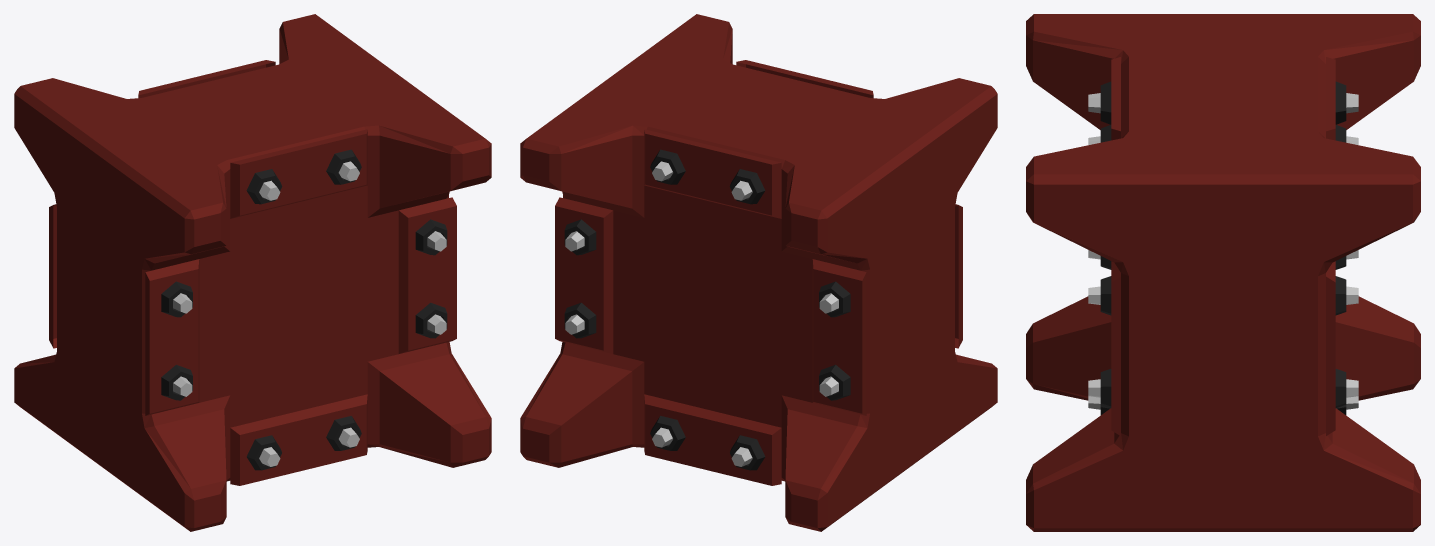
Rendered from sm_steelbeamIntersect.fbx.
3 views of the same model, side by side, from view 1: azimuth 30°, elevation 25°; view 2: azimuth 150°, elevation 25°; view 3: azimuth 270°, elevation 25° (orthographic). The views are drawn at different scales.
Parts seen in each view (by area): view 1: steelbeamIntersect; view 2: steelbeamIntersect; view 3: steelbeamIntersect.
Boxes of the visible parts, bbox=[...] form: steelbeamIntersect: bbox=[14, 14, 491, 531]; steelbeamIntersect: bbox=[520, 14, 997, 531]; steelbeamIntersect: bbox=[1026, 14, 1420, 531].
Size of the model in its own units: 100 by 100 by 100.
